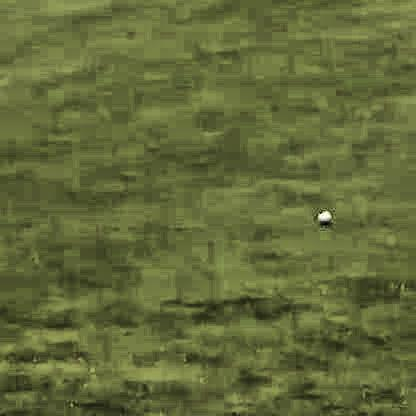golfball: (314, 207, 330, 223)
